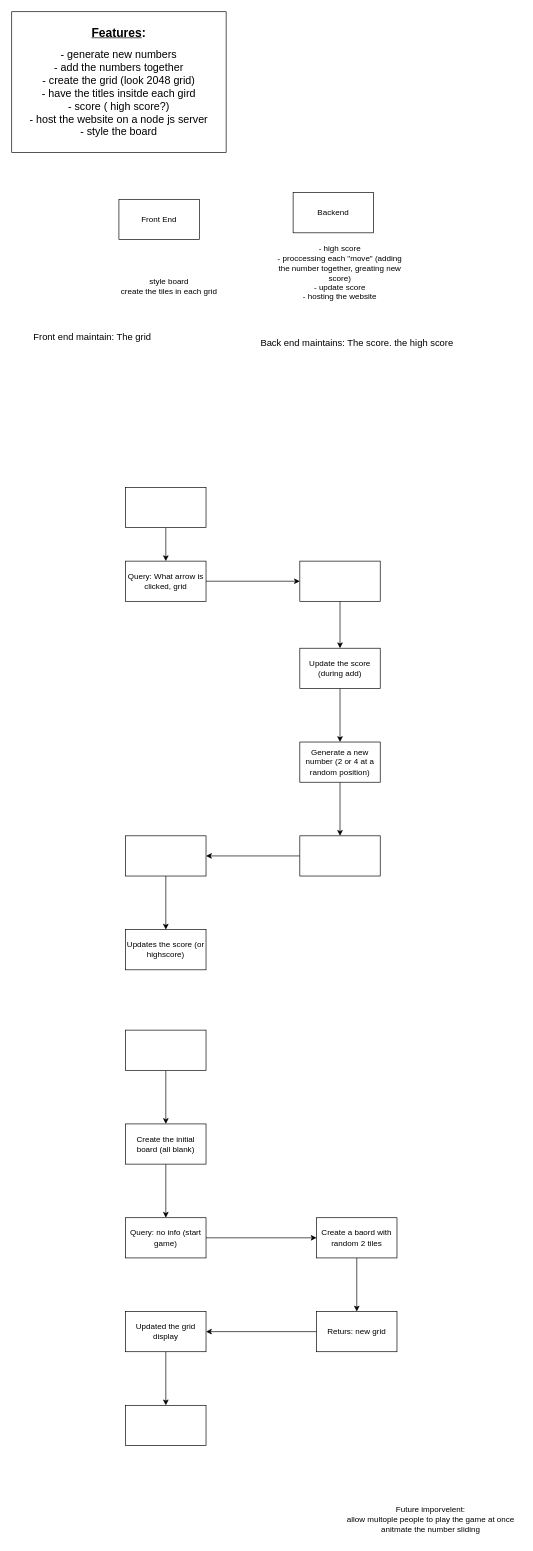
Some shapes in this 533 by 1551 pixel diagram are drawn without their labels. The shapes that lost their labels are listed below. From the top down, each one's centre as x and y in pixels, then its label:
the point at 165,507: User click an arrow key triggering a response
the point at 339,580: Add the tiles together based on the arrow key
the point at 165,855: Updates the grid
the point at 339,855: Return: updated grid, score, high score
the point at 165,1049: Start
the point at 165,1425: Initiallize the high score and score
